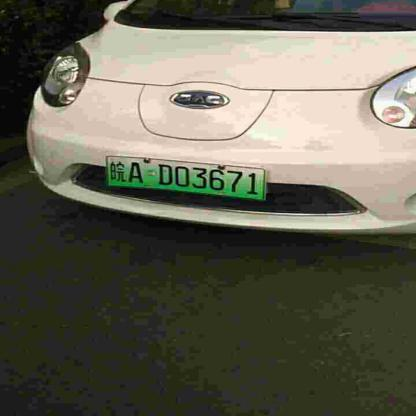lp: (105, 156, 266, 200)
